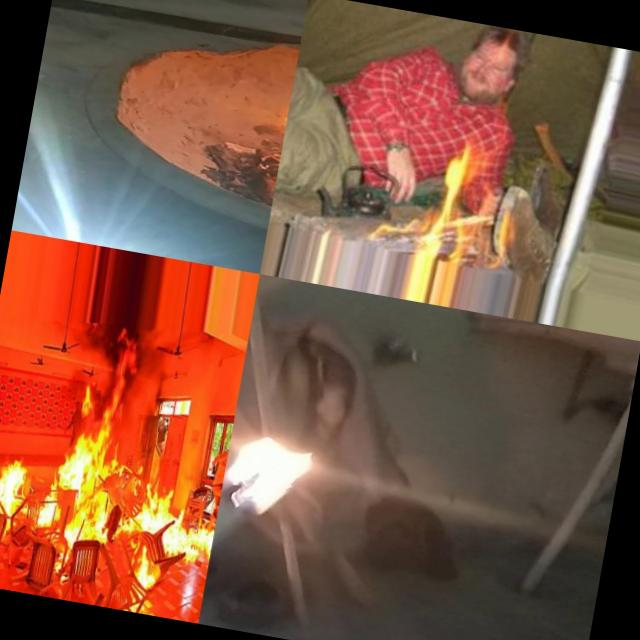fire: (382, 139, 522, 270), (216, 403, 334, 532), (62, 347, 136, 545), (130, 484, 220, 572), (0, 457, 28, 522), (34, 478, 66, 532), (130, 542, 160, 594), (122, 599, 145, 614)
